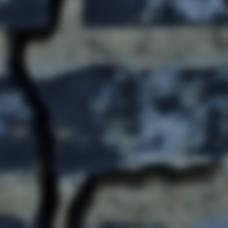brick: (82, 0, 227, 27), (0, 0, 47, 27), (192, 213, 227, 227), (0, 216, 31, 227), (131, 221, 165, 227), (94, 221, 128, 227)
broken_brick: (32, 63, 227, 177), (0, 70, 35, 175)
crack: (2, 0, 227, 227), (125, 222, 132, 227)
